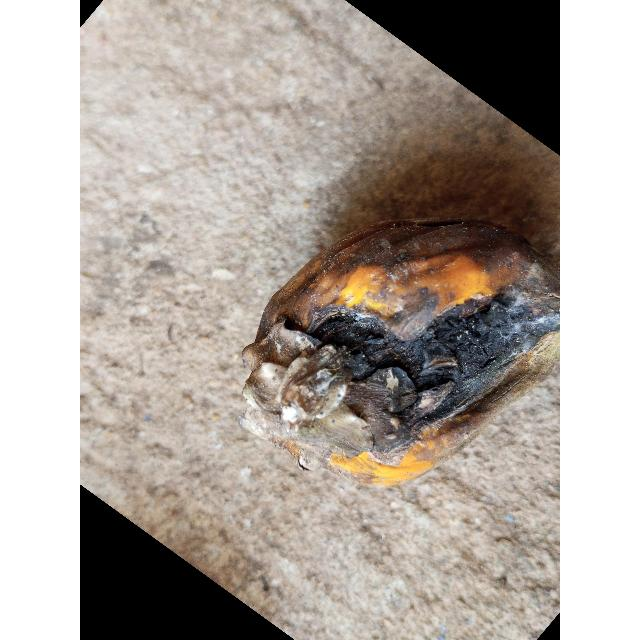damaged: (238, 219, 560, 485)
